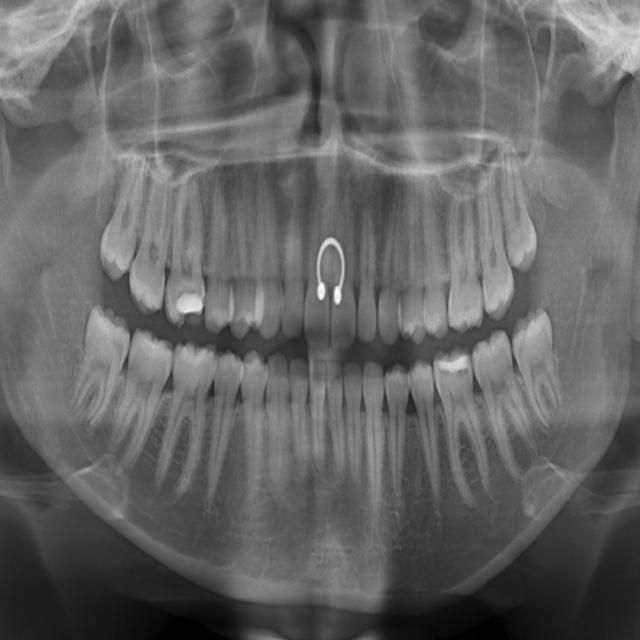CompositeResinRestoration: (439, 351, 472, 376), (176, 291, 203, 319)
DentalCaries: (194, 258, 205, 310)
ImpactedTooth: (72, 301, 131, 429), (511, 307, 563, 430)
